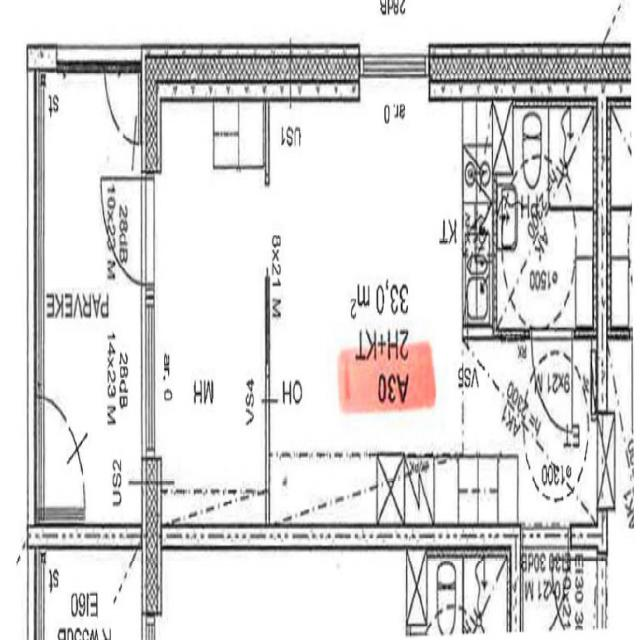door: (95, 178, 155, 286), (531, 327, 570, 429)
